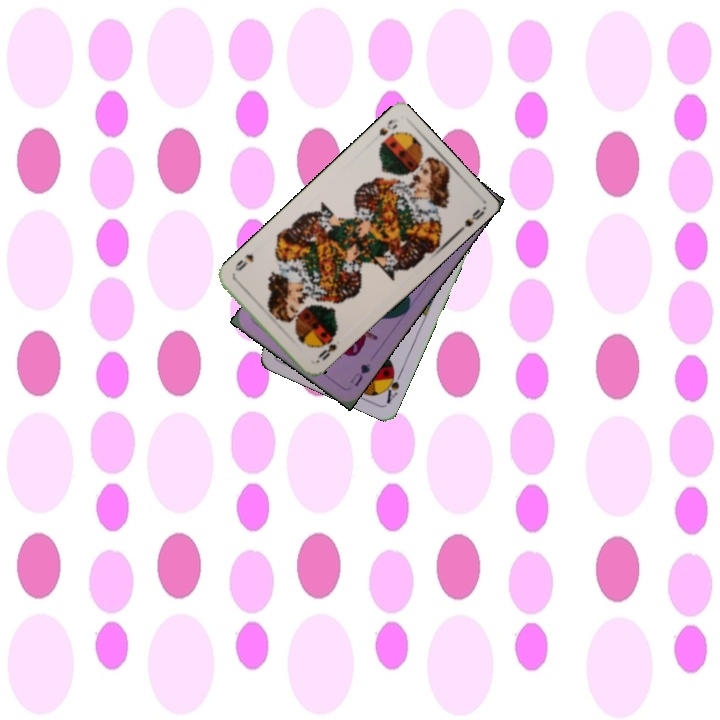GU: (346, 359, 373, 389)
SA: (380, 365, 405, 406)
SO: (313, 340, 339, 363), (375, 115, 400, 138)
